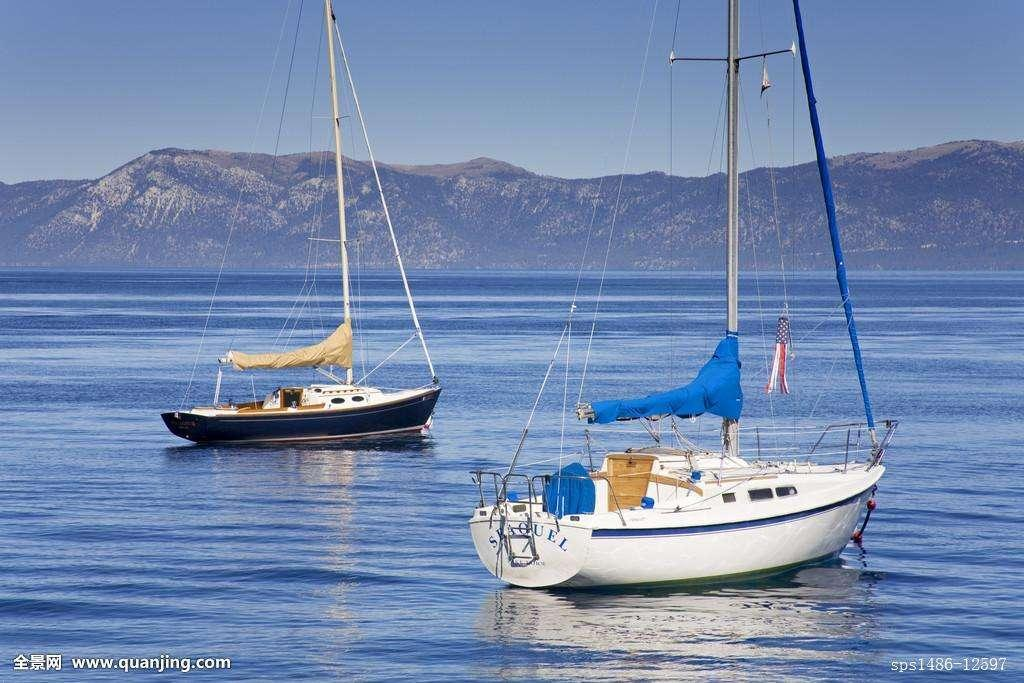otherboat: (466, 414, 917, 590), (148, 358, 443, 447)
